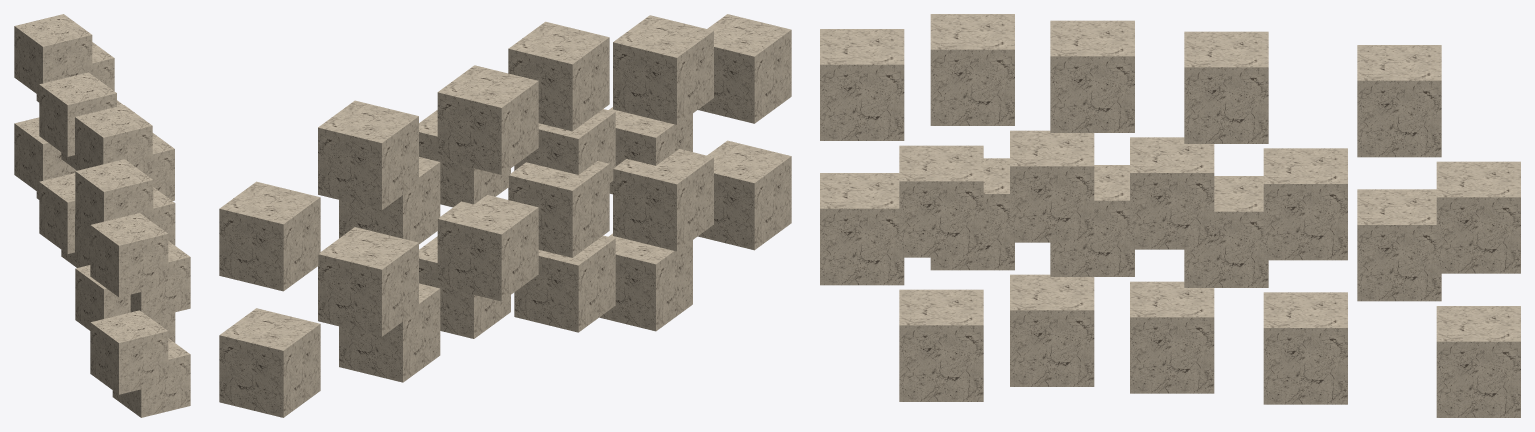
3 renders of one model, left to right at view 1: azimuth 30°, elevation 25°; view 2: azimuth 150°, elevation 25°; view 3: azimuth 270°, elevation 25°, orthographic. The views are drawn at different scales.
Visible parts, largest first — view 1: Cube.003, Cube.006, Cube.008, Cube.009, Cube.005, Cube.007, Cube.036, Cube.001, Cube.002, Cube.033, Cube, Cube.034 (+4 smaller); view 2: Cube.038, Cube.007, Cube.031, Cube.009, Cube.008, Cube.001, Cube.002, Cube, Cube.005, Cube.006, Cube.003, Cube.004 (+8 smaller); view 3: Cube.008, Cube.007, Cube.005, Cube.037, Cube.036, Cube.033, Cube.032, Cube.031, Cube.009, Cube.006, Cube.038, Cube.039 (+8 smaller).
Boxes of the visible parts, <box> form: Cube.003: <box>90,310,168,394</box>; Cube.006: <box>90,213,168,297</box>; Cube.008: <box>14,14,92,95</box>; Cube.009: <box>75,159,153,233</box>; Cube.005: <box>75,105,152,177</box>; Cube.007: <box>39,72,116,156</box>; Cube.036: <box>112,338,190,417</box>; Cube.001: <box>14,117,76,192</box>; Cube.002: <box>39,173,75,253</box>; Cube.033: <box>130,241,190,317</box>; Cube: <box>75,265,153,330</box>; Cube.034: <box>151,133,174,200</box>; Cube.038: <box>219,308,320,417</box>; Cube.007: <box>437,65,538,174</box>; Cube.031: <box>219,181,320,291</box>; Cube.009: <box>613,15,713,124</box>; Cube.008: <box>318,100,418,210</box>; Cube.001: <box>318,227,418,336</box>; Cube.002: <box>437,195,538,301</box>; Cube: <box>613,149,713,251</box>; Cube.005: <box>508,21,609,131</box>; Cube.006: <box>698,14,791,123</box>; Cube.003: <box>698,140,791,250</box>; Cube.004: <box>508,161,609,257</box>; Cube.008: <box>1357,45,1441,157</box>; Cube.007: <box>1184,31,1268,143</box>; Cube.005: <box>1050,20,1134,132</box>; Cube.037: <box>1263,292,1347,404</box>; Cube.036: <box>899,289,983,401</box>; Cube.033: <box>899,145,983,257</box>; Cube.032: <box>1263,148,1347,260</box>; Cube.031: <box>1436,161,1520,273</box>; Cube.009: <box>930,14,1014,125</box>; Cube.006: <box>820,29,904,140</box>; Cube.038: <box>1436,306,1520,417</box>; Cube.039: <box>1010,274,1094,386</box>.
Size of the model in its own units: 8.26 by 9.46 by 16.61.
Materials: 40 (40 with a texture image).
